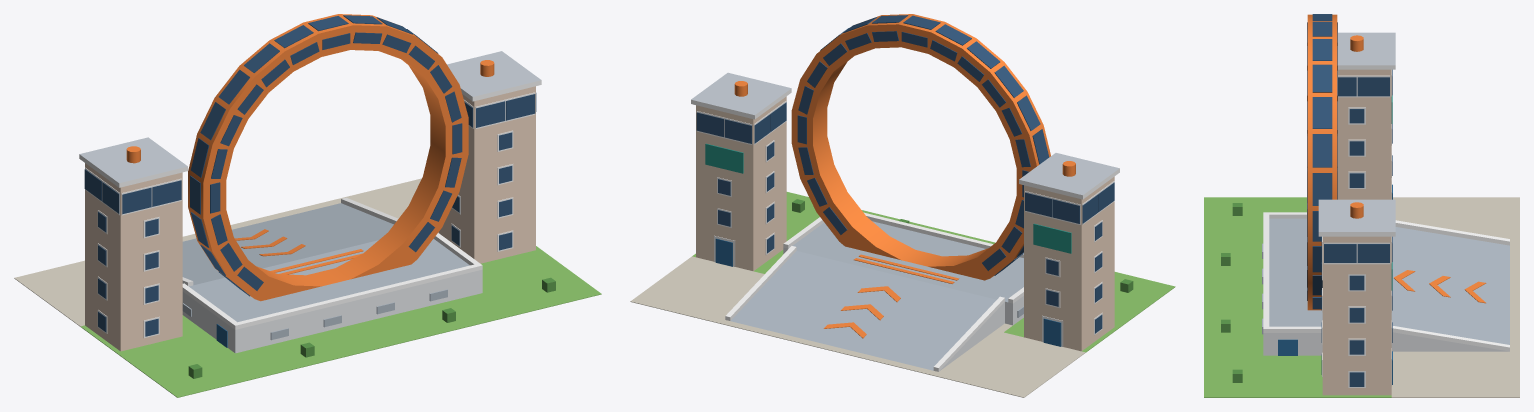
Rendered from expressgate.glb.
The picture shows the model from 3 angles, left to right: view 1: azimuth 30°, elevation 25°; view 2: azimuth 150°, elevation 25°; view 3: azimuth 270°, elevation 25°; orthographic projection. The views are drawn at different scales.
Parts seen in each view (by area): view 1: control_tower (×2), ring, grass (×5), ramp, platform_back, roof (×2), paving (×3), platform_back_deck, curb (×2), window_band (×4), platform_front_deck, platform_slot_deck (+1 smaller); view 2: control_tower (×2), ramp, ring, paving (×3), roof (×2), platform_front_deck, grass (×2), curb (×3), window_band (×4), platform_back_deck, sign (×2), roof_edge (×2) (+1 smaller); view 3: grass (×5), control_tower (×2), paving (×3), ramp, window_band (×10), roof (×2), platform_back_deck, ring, curb (×4), ramp_wall, platform_back, roof_edge (×2) (+3 smaller).
Part boxes in pixels (x1=…): control_tower (×2): x1=85, y1=86, x2=535, y2=351; ring: x1=188, y1=14, x2=468, y2=301; grass (×5): x1=116, y1=249, x2=601, y2=397; ramp: x1=182, y1=203, x2=393, y2=285; platform_back: x1=212, y1=269, x2=482, y2=353; roof (×2): x1=79, y1=51, x2=541, y2=183; paving (×3): x1=14, y1=178, x2=438, y2=326; platform_back_deck: x1=222, y1=254, x2=469, y2=322; curb (×2): x1=182, y1=263, x2=482, y2=329; window_band (×4): x1=122, y1=94, x2=535, y2=214; platform_front_deck: x1=189, y1=239, x2=438, y2=299; platform_slot_deck: x1=207, y1=291, x2=259, y2=310; control_tower (×2): x1=696, y1=96, x2=1114, y2=351; ramp: x1=730, y1=251, x2=996, y2=370; ring: x1=791, y1=14, x2=1050, y2=280; paving (×3): x1=630, y1=256, x2=1085, y2=397; roof (×2): x1=691, y1=72, x2=1119, y2=195; platform_front_deck: x1=792, y1=237, x2=1020, y2=302; grass (×2): x1=786, y1=192, x2=1175, y2=328; curb (×3): x1=725, y1=212, x2=1023, y2=371; window_band (×4): x1=696, y1=112, x2=1079, y2=223; platform_back_deck: x1=819, y1=221, x2=1023, y2=276; sign (×2): x1=705, y1=143, x2=1071, y2=253; roof_edge (×2): x1=691, y1=88, x2=1119, y2=199; grass (×5): x1=1204, y1=197, x2=1322, y2=397; control_tower (×2): x1=1322, y1=69, x2=1391, y2=395; paving (×3): x1=1391, y1=197, x2=1519, y2=397; ramp: x1=1391, y1=227, x2=1509, y2=344; window_band (×10): x1=1312, y1=21, x2=1389, y2=262; roof (×2): x1=1318, y1=32, x2=1395, y2=231; platform_back_deck: x1=1269, y1=218, x2=1307, y2=326; ring: x1=1307, y1=14, x2=1337, y2=310; curb (×4): x1=1263, y1=212, x2=1509, y2=351; ramp_wall: x1=1391, y1=332, x2=1509, y2=351; platform_back: x1=1263, y1=333, x2=1307, y2=355; roof_edge (×2): x1=1318, y1=65, x2=1395, y2=236.
Size of the model in its own units: 48 by 30.08 by 32.
